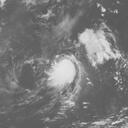cyclone: (45, 52, 84, 94)
